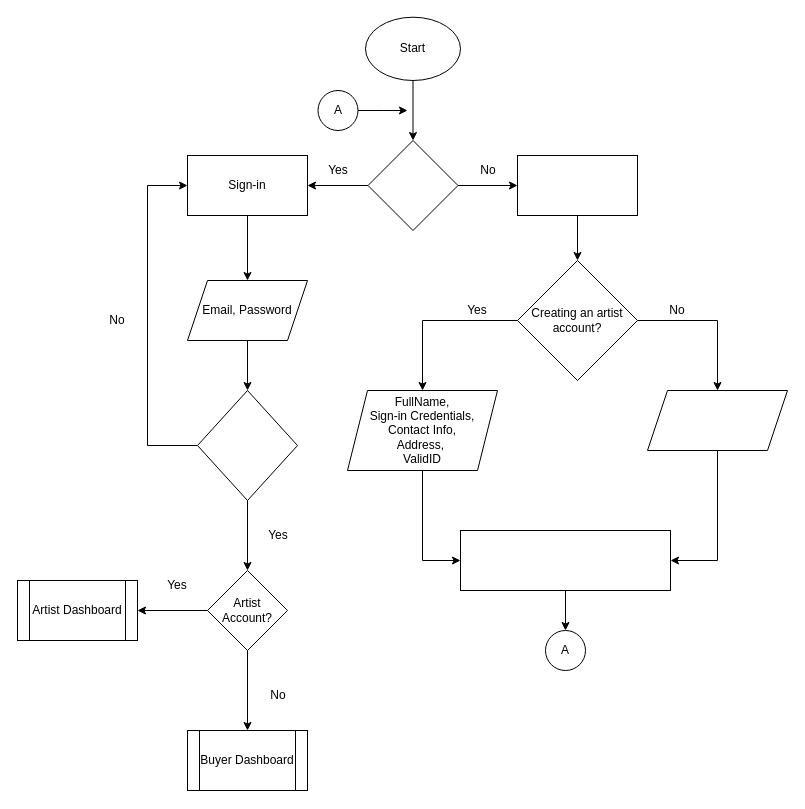
The diagram is 805 pixels wide and 809 high, and some of its shapes have lost their labels. Each missing label, with the centre of its shape:
"Create an account" belongs at [577,185].
"Entered the Correct Password?" belongs at [247,445].
"FullName, Sign-in Credentials, Contact Info, Address" belongs at [717,420].
"Have an account?" belongs at [412,185].
"Verification of Registration" belongs at [565,560].
